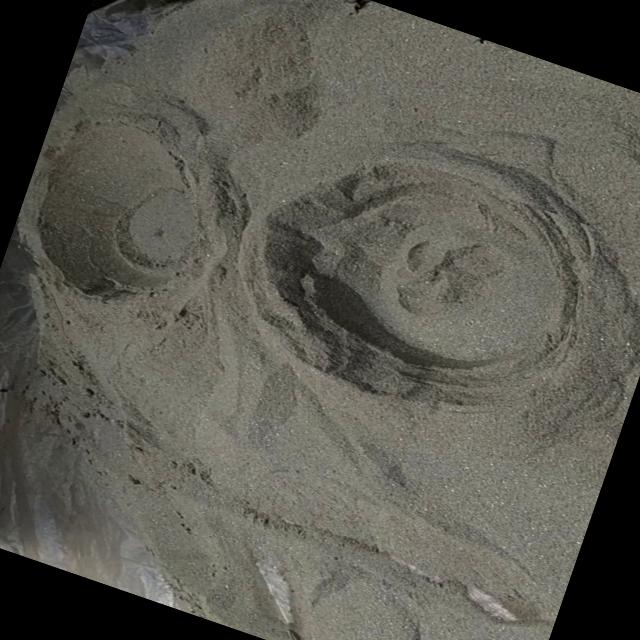C20: (278, 161, 583, 376), (30, 88, 203, 294)
